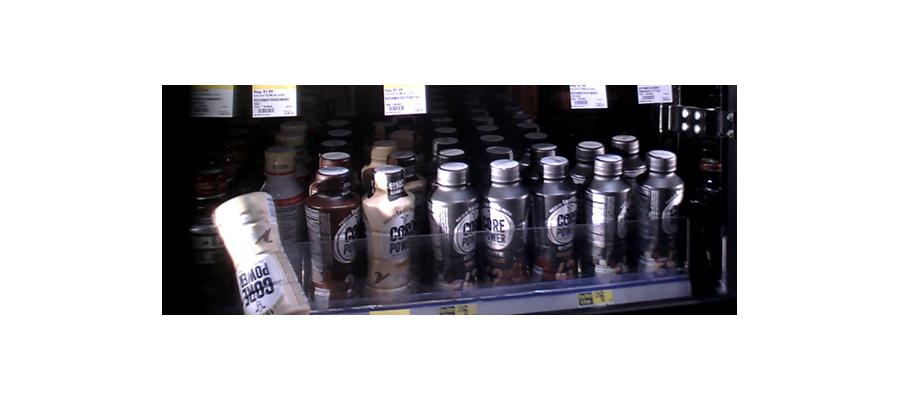bottle: (216, 190, 301, 309), (306, 158, 360, 301), (364, 161, 415, 303), (584, 149, 634, 282), (429, 160, 478, 294), (531, 153, 577, 285), (481, 161, 528, 284), (640, 145, 682, 278)
